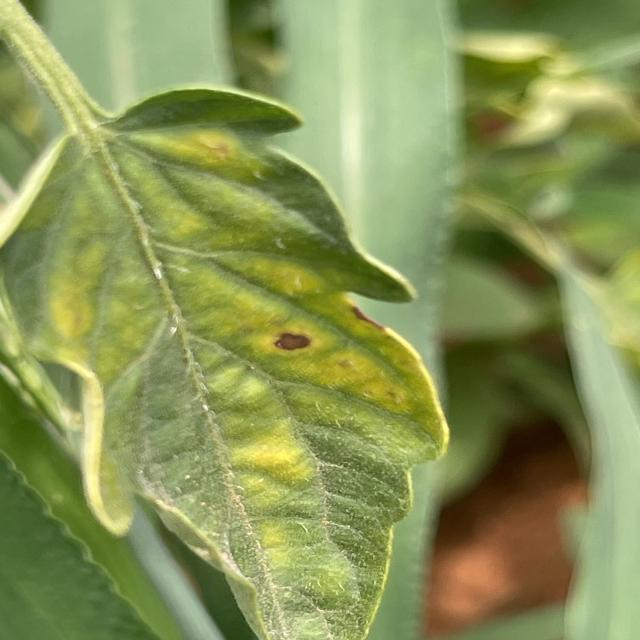tomato_early blight: (6, 84, 447, 640)
